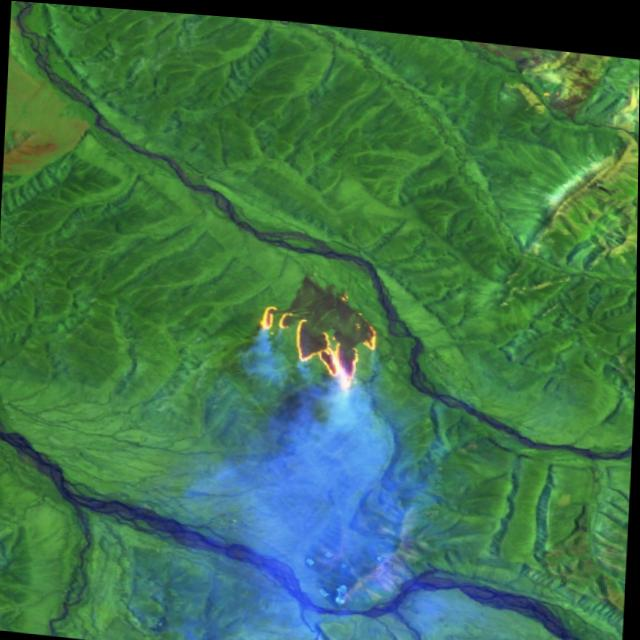fire: (247, 270, 387, 397)
